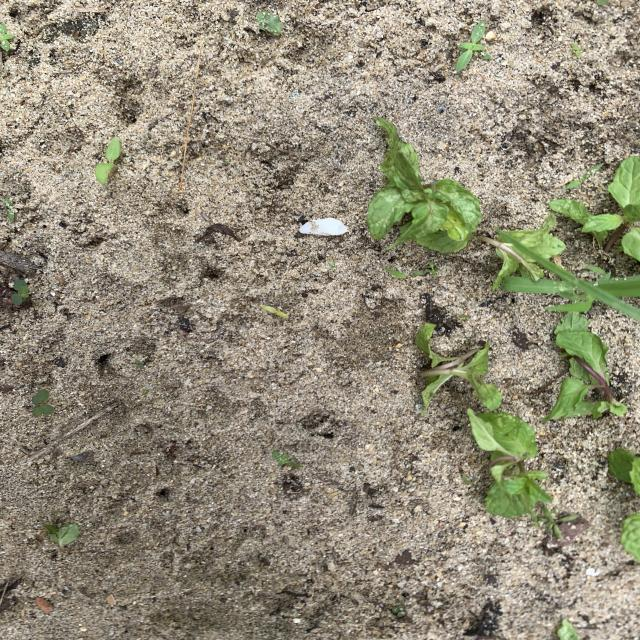crop: (367, 118, 482, 253), (550, 156, 640, 262), (467, 409, 552, 517), (543, 312, 626, 422), (415, 323, 502, 410), (479, 213, 566, 290), (608, 448, 640, 496), (621, 512, 640, 562)
weed: (561, 272, 640, 322), (455, 22, 490, 73), (537, 504, 575, 541), (94, 137, 123, 185), (35, 520, 79, 548), (564, 163, 604, 192), (0, 276, 32, 311), (23, 389, 55, 417), (386, 263, 438, 279), (256, 11, 286, 38), (272, 450, 302, 471), (0, 23, 14, 58), (0, 195, 16, 223), (257, 305, 289, 319), (569, 40, 586, 60), (548, 304, 587, 312), (460, 312, 471, 322)
